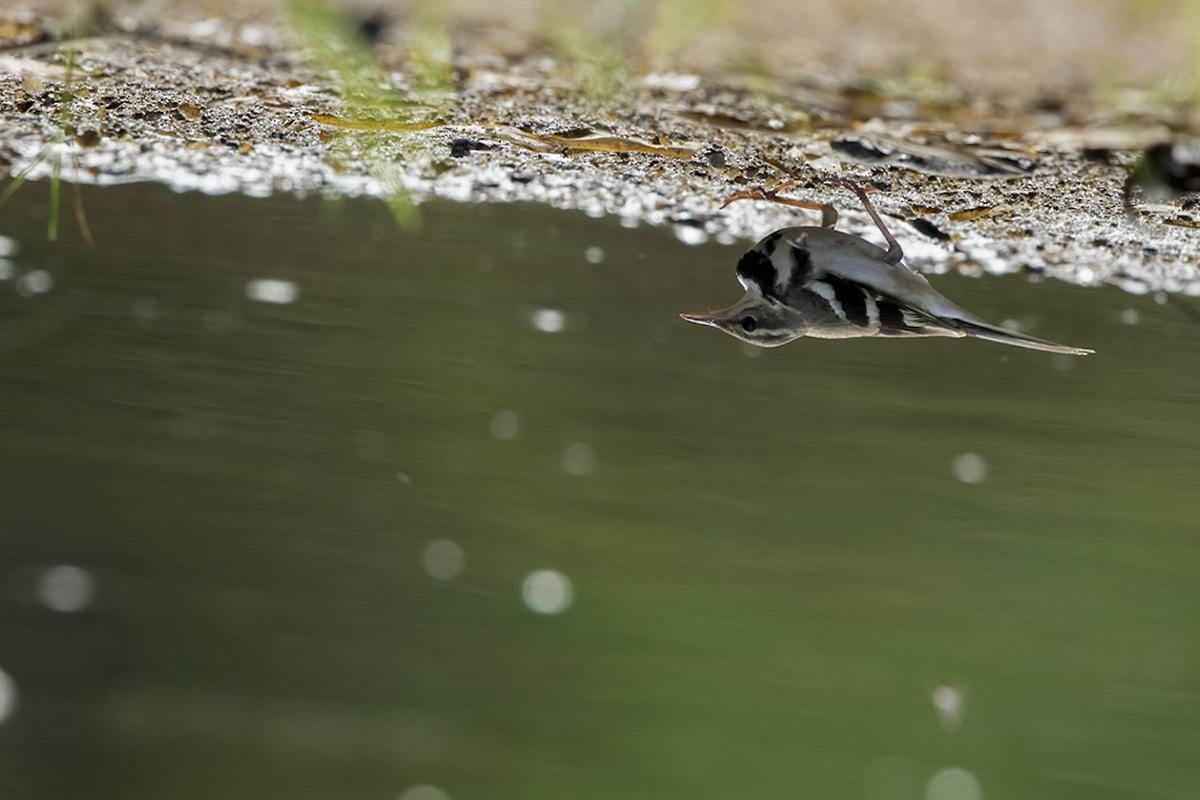wagtail: (678, 213, 1054, 375)
